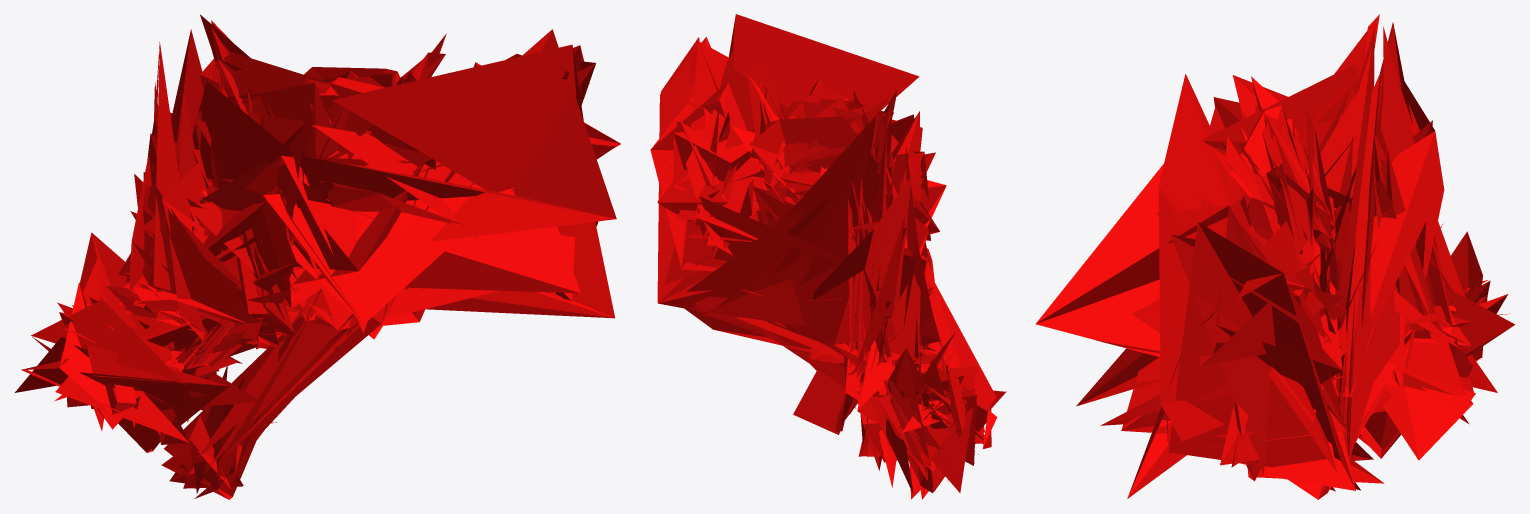
The picture shows the model from 3 angles, left to right: view 1: azimuth 30°, elevation 25°; view 2: azimuth 150°, elevation 25°; view 3: azimuth 270°, elevation 25°; orthographic projection. The views are drawn at different scales.
Visible parts, largest first — view 1: Renderer Node; view 2: Renderer Node; view 3: Renderer Node.
Boxes of the visible parts, <box> form: Renderer Node: <box>15,14,620,499</box>; Renderer Node: <box>650,14,1006,499</box>; Renderer Node: <box>1035,14,1515,499</box>.
Size of the model in its own units: 0.8408 by 0.734 by 0.6421.
Materials: 1 (1 with a texture image).
